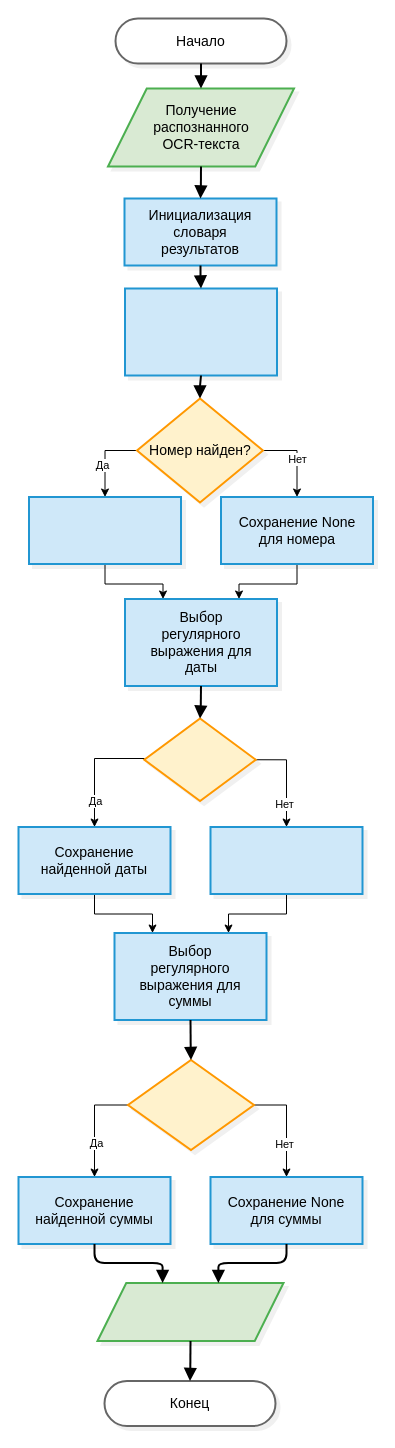
This 395x1448 diagram has some shape labels left out. Here are the shapes that lost their labels. From the top down, the centre of each, then its label:
At pixel 203 333: "Выбор регулярного выражения для номера документа".
At pixel 107 532: "Сохранение найденного номера".
At pixel 201 761: "Дата найдена?".
At pixel 288 862: "Сохранение None для даты".
At pixel 192 1106: "Сумма найдена?".
At pixel 192 1314: "Возврат словаря с реквизитами".
